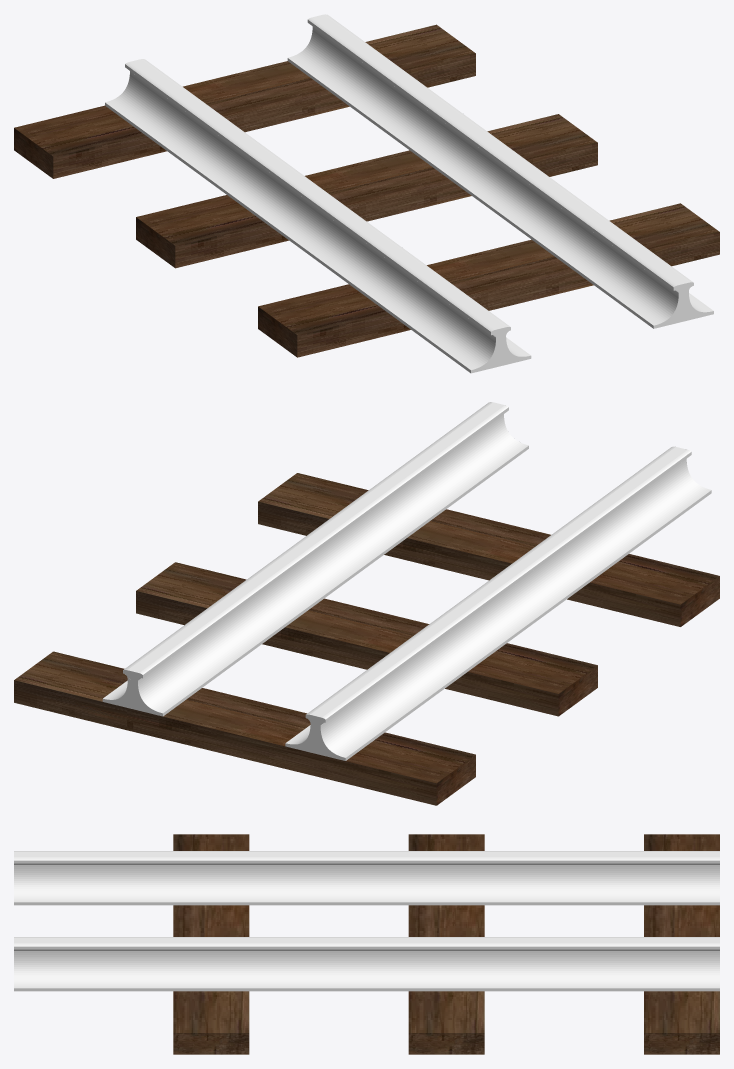
The model's file is РЕЛЬСЫосновные.glb.
3 views of the same model, one above another, from view 1: azimuth 30°, elevation 25°; view 2: azimuth 150°, elevation 25°; view 3: azimuth 270°, elevation 25° (orthographic). The views are drawn at different scales.
Visible parts, largest first — view 1: РЕЛЬСЫ, Шпала 1, Шпала 2, Шпала 3; view 2: РЕЛЬСЫ, Шпала 3, Шпала 2, Шпала 1; view 3: РЕЛЬСЫ, Шпала 1, Шпала 2, Шпала 3.
Part boxes in pixels (x1=…): РЕЛЬСЫ: x1=105, y1=14, x2=713, y2=373; Шпала 1: x1=258, y1=203, x2=719, y2=357; Шпала 2: x1=136, y1=114, x2=597, y2=268; Шпала 3: x1=14, y1=24, x2=475, y2=178; РЕЛЬСЫ: x1=102, y1=402, x2=711, y2=760; Шпала 3: x1=14, y1=651, x2=475, y2=805; Шпала 2: x1=136, y1=562, x2=597, y2=716; Шпала 1: x1=258, y1=473, x2=719, y2=626; РЕЛЬСЫ: x1=14, y1=851, x2=719, y2=991; Шпала 1: x1=173, y1=834, x2=249, y2=1054; Шпала 2: x1=408, y1=834, x2=484, y2=1054; Шпала 3: x1=644, y1=834, x2=719, y2=1054.
Bounding box in the file's own units: 2 × 0.2721 × 3.
2 materials, 1 textured.
